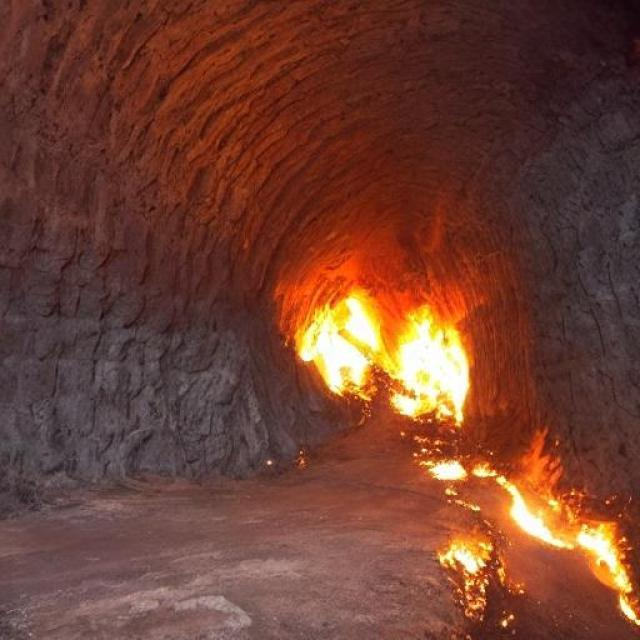Fire: (413, 454, 640, 634), (296, 292, 482, 436)
